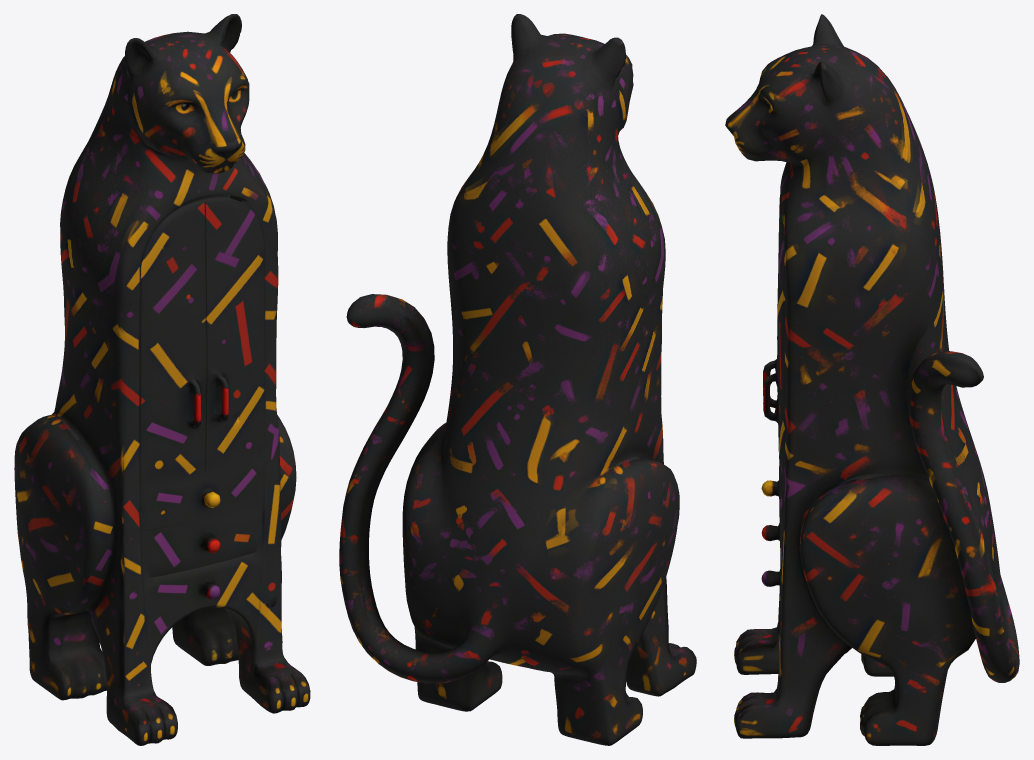
The model's file is tripo_convert_f5414da9-a671-4169-b00e-6e15b429ddce.fbx.
The picture shows the model from 3 angles, left to right: view 1: azimuth 30°, elevation 25°; view 2: azimuth 150°, elevation 25°; view 3: azimuth 270°, elevation 25°; orthographic projection.
Visible parts, largest first — view 1: tripo_node_f5414da9; view 2: tripo_node_f5414da9; view 3: tripo_node_f5414da9.
Boxes of the visible parts, x1,y1,x2,y2 form: tripo_node_f5414da9: (14, 14, 310, 745); tripo_node_f5414da9: (339, 14, 696, 745); tripo_node_f5414da9: (725, 14, 1019, 745).
Bounding box in the file's own units: 0.3996 × 0.9794 × 0.3948.
1 material, 1 textured.
